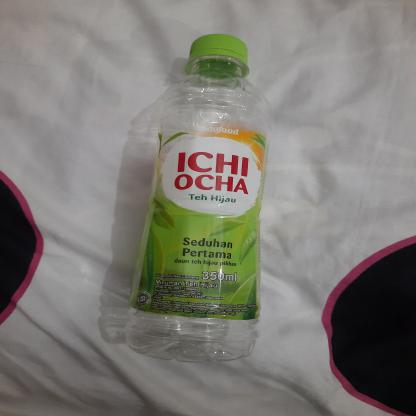plastic: (114, 31, 269, 367)
